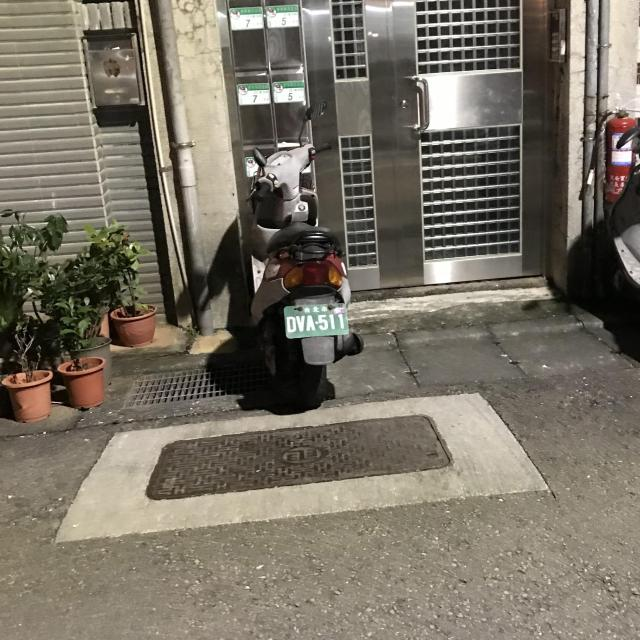W: (282, 301, 353, 340)
